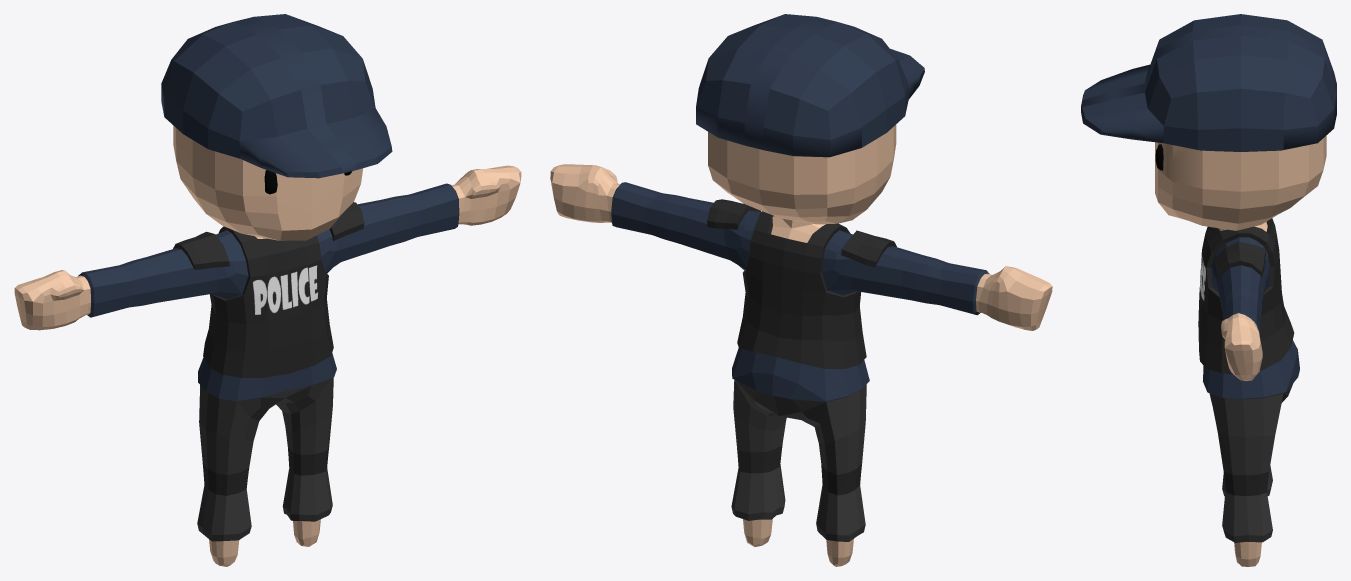
File: POLICE.fbx
The picture shows the model from 3 angles, left to right: view 1: azimuth 30°, elevation 25°; view 2: azimuth 150°, elevation 25°; view 3: azimuth 270°, elevation 25°; orthographic projection.
Visible parts, largest first — view 1: Body; view 2: Body; view 3: Body.
Part boxes in pixels (x1,y1,x2,y2): Body: (14,14,521,566); Body: (550,14,1052,566); Body: (1081,14,1336,566).
Bounding box in the file's own units: 324 × 325 × 146.
